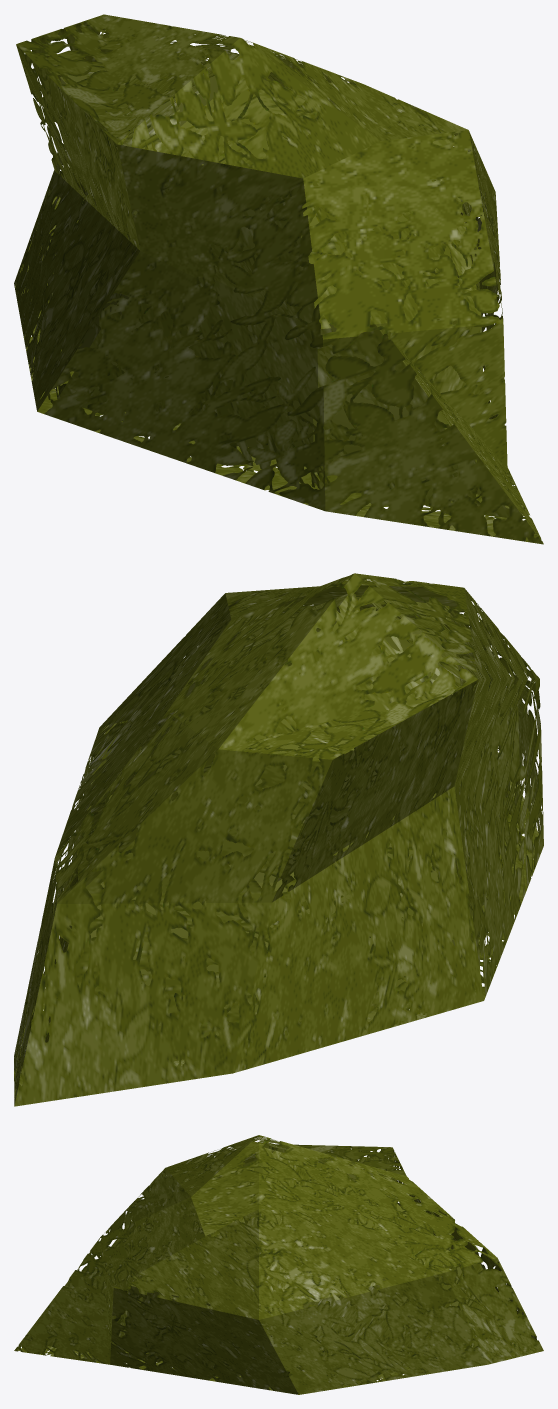
The model's file is green.fbx.
3 views of the same model, one above another, from view 1: azimuth 30°, elevation 25°; view 2: azimuth 150°, elevation 25°; view 3: azimuth 270°, elevation 25° (orthographic). The views are drawn at different scales.
Parts seen in each view (by area): view 1: Cube; view 2: Cube; view 3: Cube.
Part boxes in pixels (box(x1,y1,x2,y2)): Cube: box(14, 14, 543, 544); Cube: box(14, 573, 543, 1106); Cube: box(14, 1135, 543, 1394).
Size of the model in its own units: 224 by 183 by 449.
